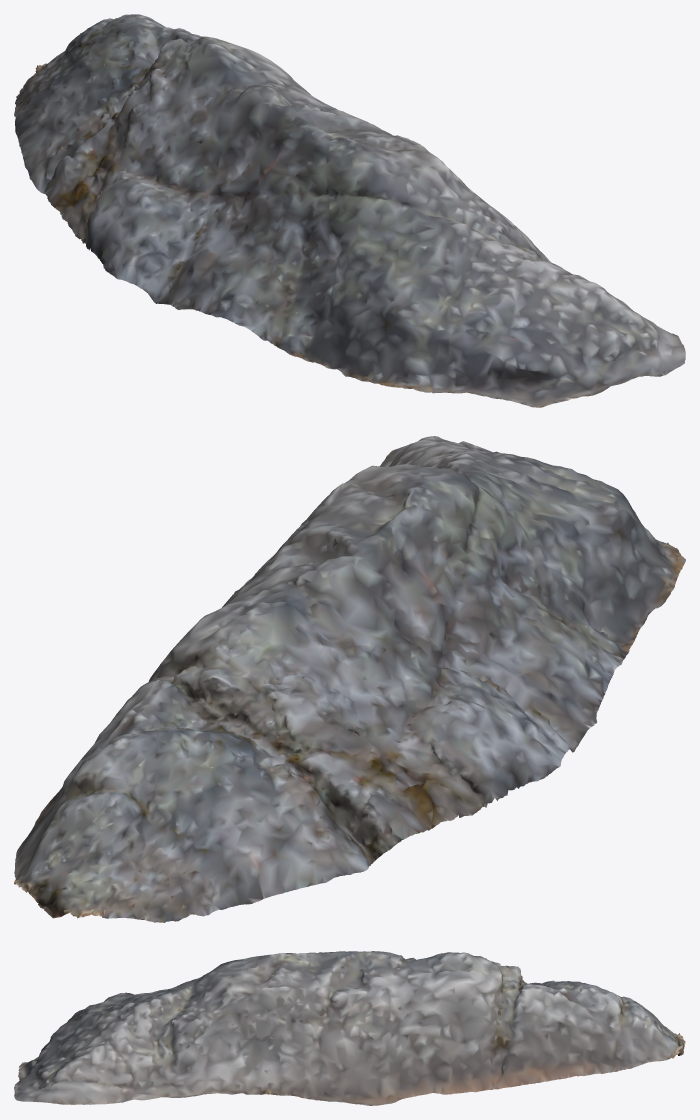
Rendered from qr_rock1.dae.
The picture shows the model from 3 angles, top to bottom: view 1: azimuth 30°, elevation 25°; view 2: azimuth 150°, elevation 25°; view 3: azimuth 270°, elevation 25°; orthographic projection. The views are drawn at different scales.
Parts seen in each view (by area): view 1: Granite Rock Photoscan; view 2: Granite Rock Photoscan; view 3: Granite Rock Photoscan.
Boxes of the visible parts, bbox=[...] form: Granite Rock Photoscan: bbox=[14, 14, 685, 407]; Granite Rock Photoscan: bbox=[14, 436, 685, 922]; Granite Rock Photoscan: bbox=[14, 951, 685, 1105].
Bounding box in the file's own units: 2.64 × 6.15 × 1.07.
